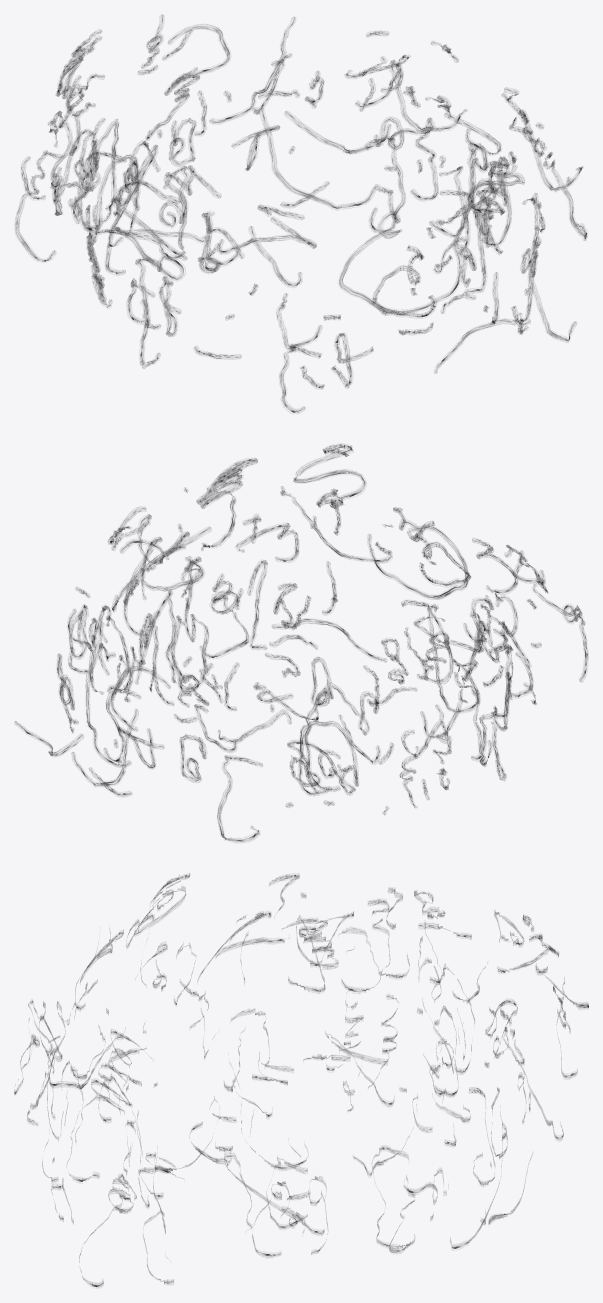
File: Artwork.mobile.glb
The picture shows the model from 3 angles, top to bottom: view 1: azimuth 30°, elevation 25°; view 2: azimuth 150°, elevation 25°; view 3: azimuth 270°, elevation 25°; orthographic projection. The views are drawn at different scales.
Visible parts, largest first — view 1: Mesh_Renderer; view 2: Mesh_Renderer; view 3: Mesh_Renderer.
Boxes of the visible parts, x1=… form: Mesh_Renderer: x1=15, y1=15, x2=587, y2=412; Mesh_Renderer: x1=15, y1=444, x2=588, y2=842; Mesh_Renderer: x1=14, y1=873, x2=588, y2=1287.
Size of the model in its own units: 2.92 by 1.38 by 2.95.
1 material, 1 textured.
